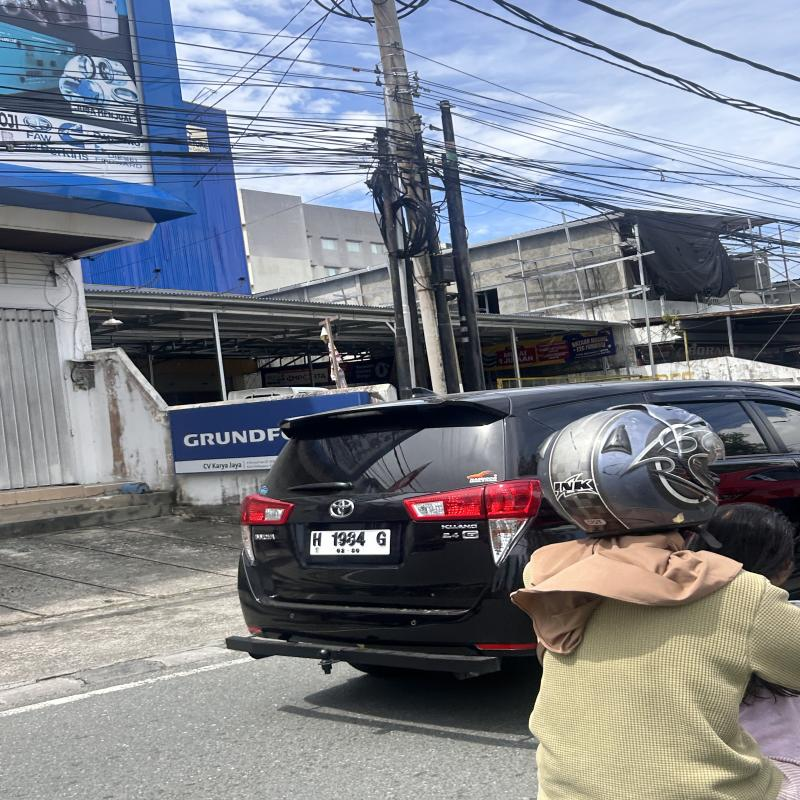license plate on a car: (310, 529, 390, 554)
